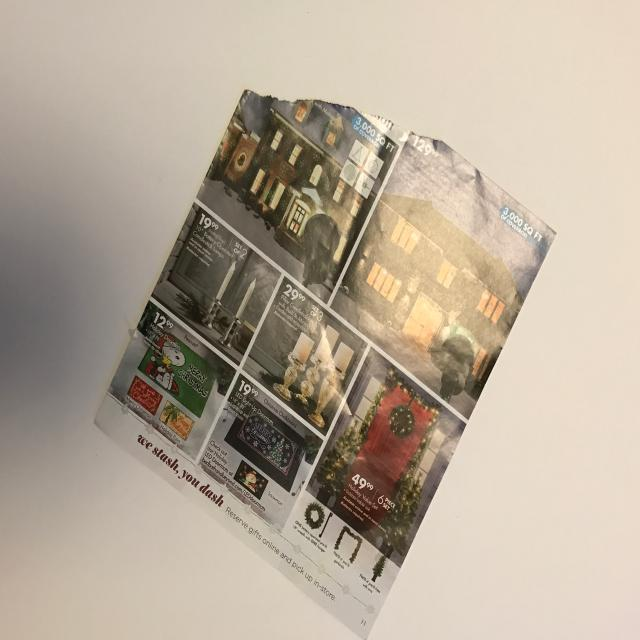paper: (87, 71, 572, 640)
